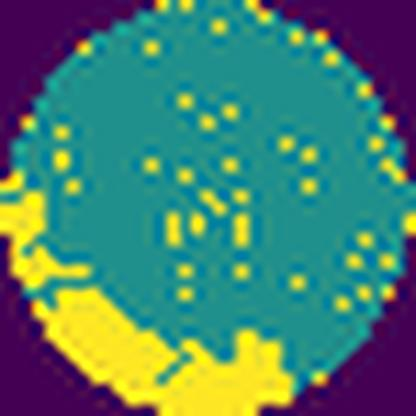Edge-Loc: (29, 276, 305, 416), (0, 166, 95, 298)
